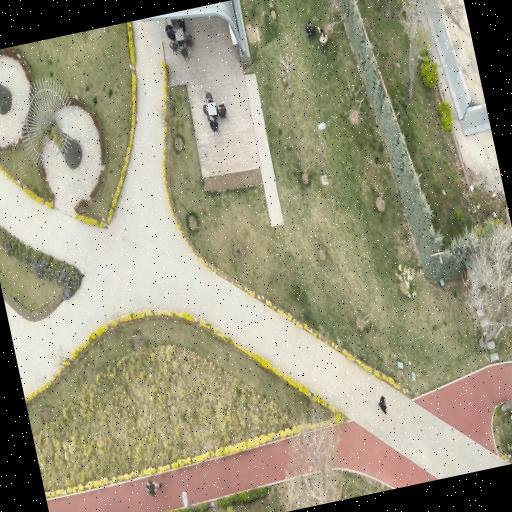person: (145, 481, 161, 496), (316, 27, 327, 46), (304, 21, 314, 37), (165, 25, 175, 41), (378, 397, 386, 414), (217, 103, 225, 118), (209, 118, 217, 132), (177, 19, 185, 32)
